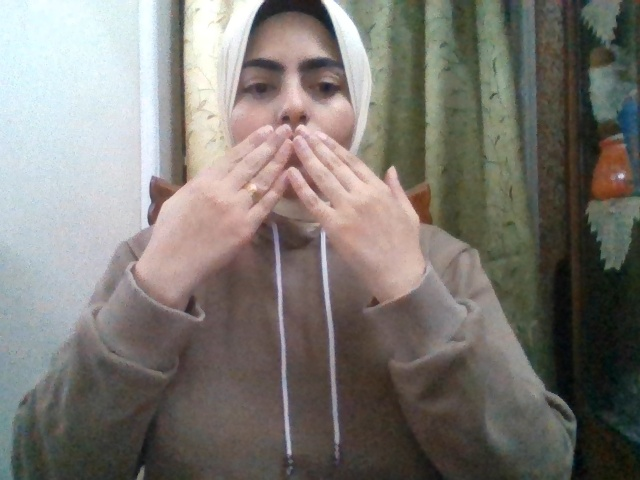thanks: (143, 125, 423, 290)
